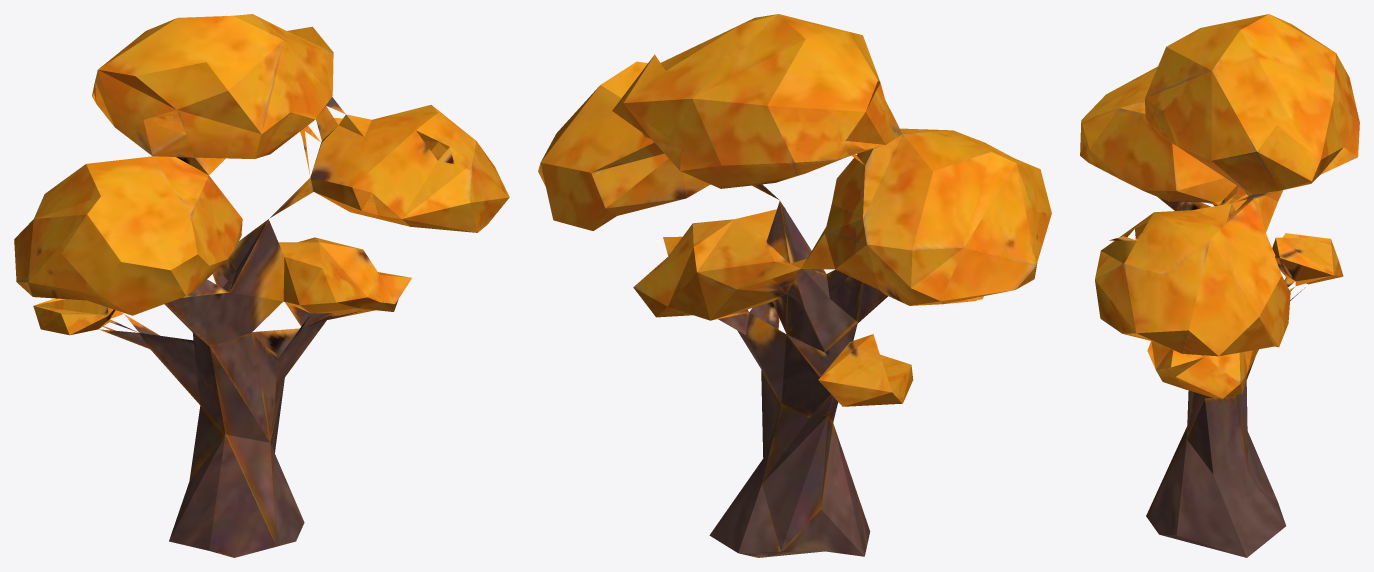
Rendered from tree-elm-lod.glb.
3 views of the same model, side by side, from view 1: azimuth 30°, elevation 25°; view 2: azimuth 150°, elevation 25°; view 3: azimuth 270°, elevation 25° (orthographic). The views are drawn at different scales.
Parts seen in each view (by area): view 1: output_unwrapped; view 2: output_unwrapped; view 3: output_unwrapped.
Part boxes in pixels (x1,y1,x2,y2): output_unwrapped: (14,14,509,557); output_unwrapped: (538,14,1051,557); output_unwrapped: (1080,14,1359,557).
Size of the model in its own units: 8.54 by 9 by 4.55.
Materials: 1 (1 with a texture image).
